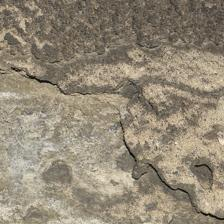Crack: (52, 56, 109, 167), (126, 50, 173, 161)
